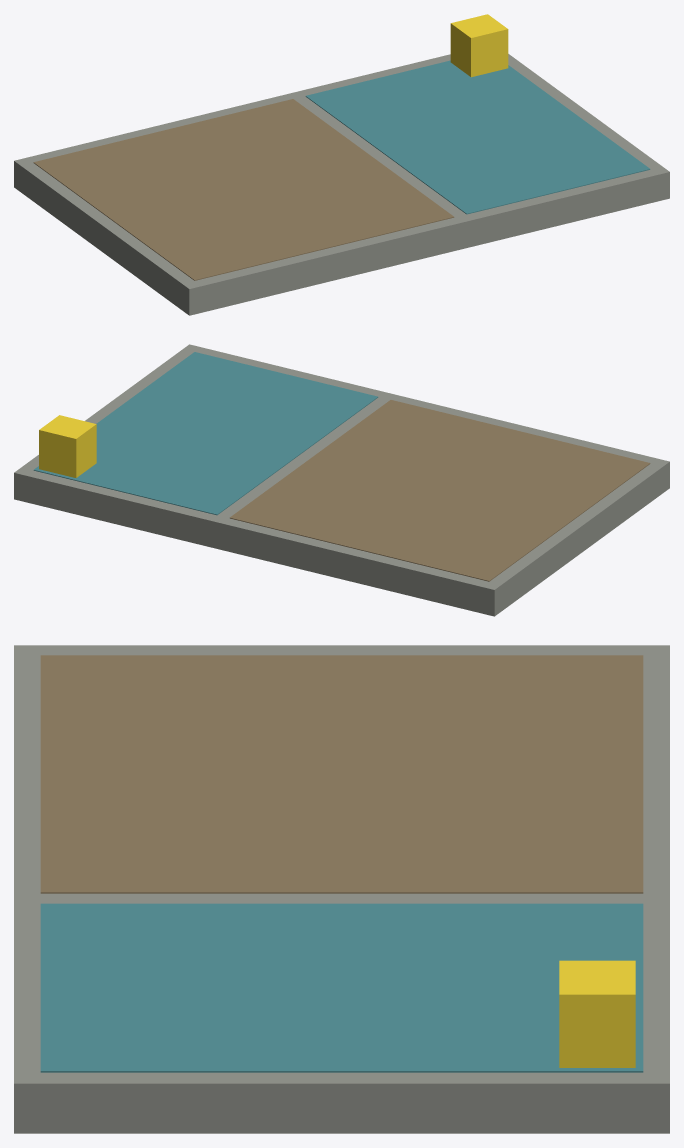
The model's file is site_pond_far.fbx.
3 views of the same model, one above another, from view 1: azimuth 30°, elevation 25°; view 2: azimuth 150°, elevation 25°; view 3: azimuth 270°, elevation 25° (orthographic). The views are drawn at different scales.
Parts seen in each view (by area): view 1: a1089/0/site_pond_far; view 2: a1089/0/site_pond_far; view 3: a1089/0/site_pond_far.
Boxes of the visible parts, bbox=[...] form: a1089/0/site_pond_far: bbox=[14, 14, 669, 315]; a1089/0/site_pond_far: bbox=[14, 344, 669, 616]; a1089/0/site_pond_far: bbox=[14, 645, 669, 1133].
Bounding box in the file's own units: 13.6 × 1.8 × 8.6.
